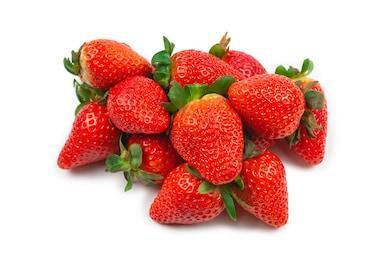Fresa: (168, 88, 248, 188), (225, 69, 307, 144), (228, 144, 294, 234), (148, 158, 230, 228), (55, 95, 125, 173), (76, 34, 156, 95), (105, 73, 173, 140), (161, 47, 251, 96)
